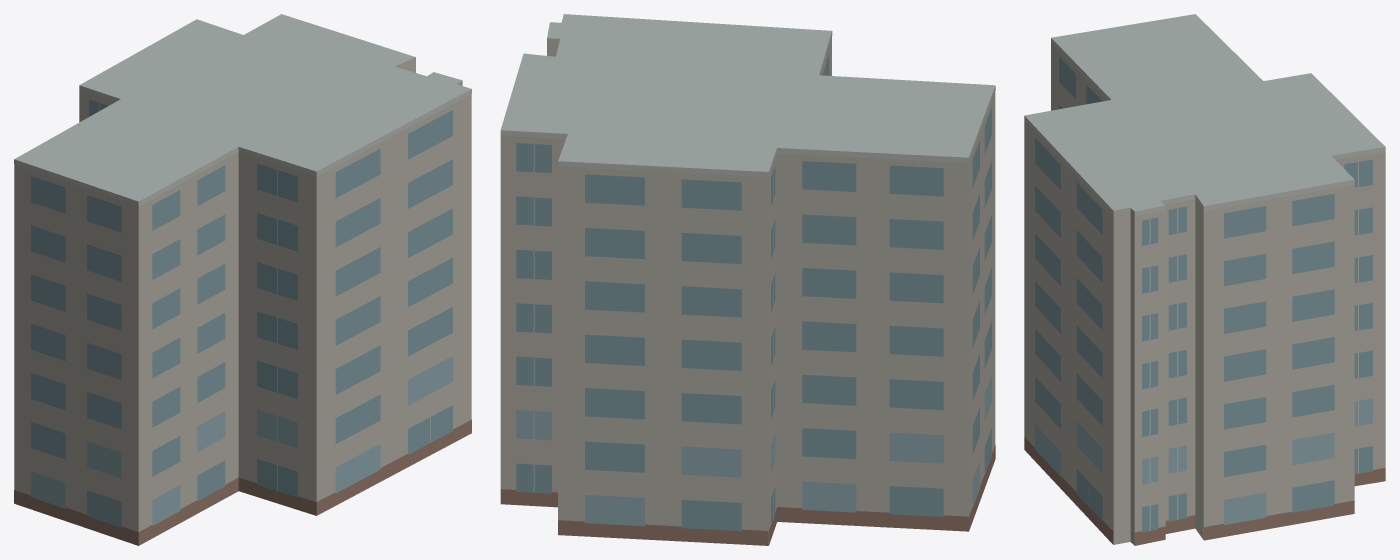
Rendered from survey-upis-32945413.glb.
3 views of the same model, side by side, from view 1: azimuth 30°, elevation 25°; view 2: azimuth 150°, elevation 25°; view 3: azimuth 270°, elevation 25° (orthographic). The views are drawn at different scales.
Parts seen in each view (by area): view 1: survey-upis-32945413.tmp; view 2: survey-upis-32945413.tmp; view 3: survey-upis-32945413.tmp.
Part boxes in pixels (x1=…): survey-upis-32945413.tmp: x1=14, y1=14, x2=471, y2=545; survey-upis-32945413.tmp: x1=500, y1=14, x2=995, y2=545; survey-upis-32945413.tmp: x1=1024, y1=14, x2=1385, y2=545.
Bounding box in the file's own units: 21.03 × 16.58 × 16.25.
